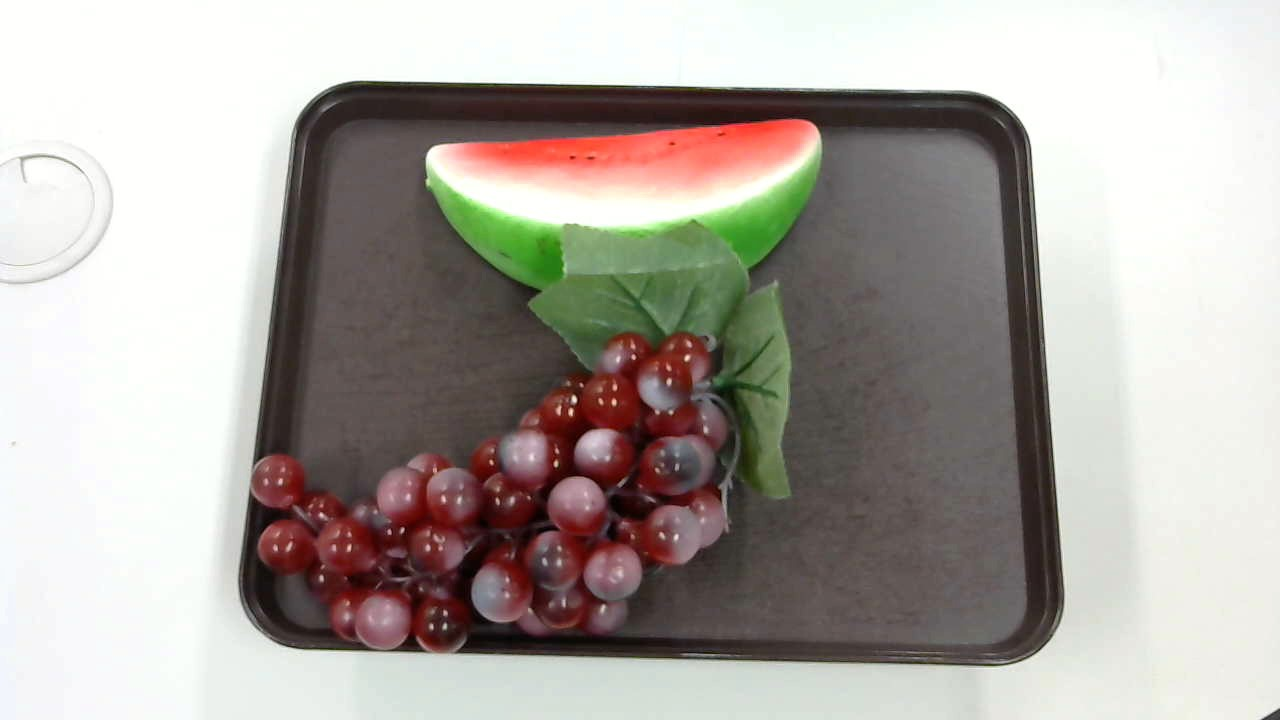grape: (239, 219, 801, 663)
water melon: (410, 119, 824, 290)
